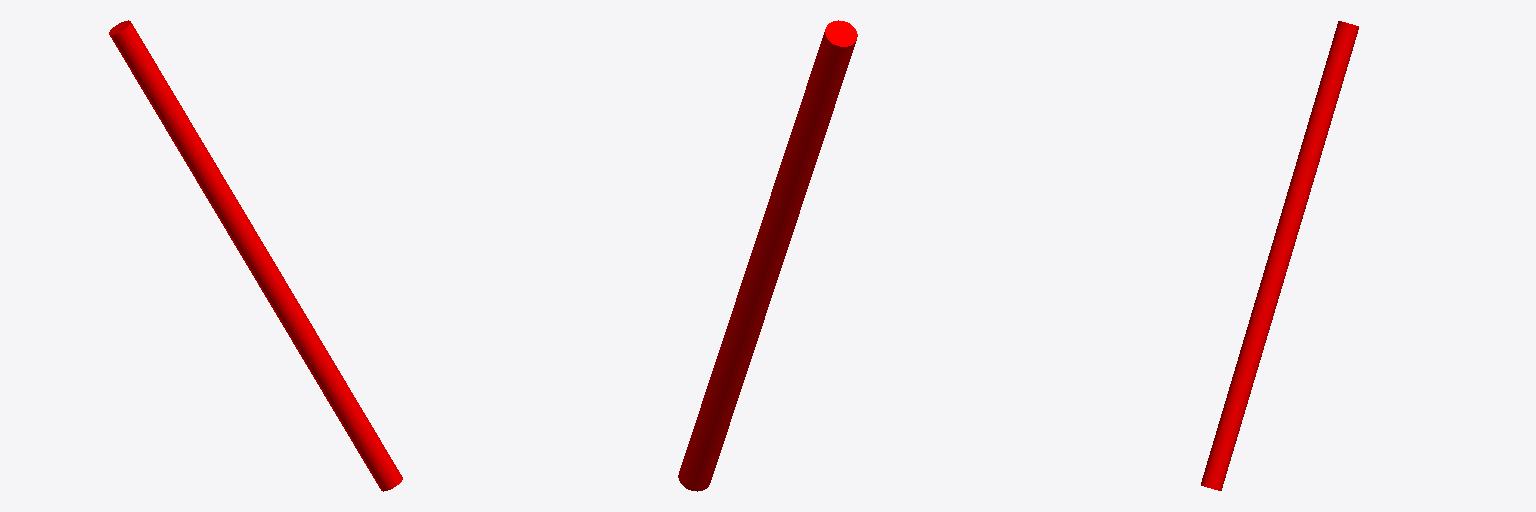
robot.urdf — tree_2.urdf:
<?xml version='1.0' encoding='utf-8'?>
<robot name="tree_2.urdf">
  <link name="branch_0">
    <inertial>
      <origin xyz="0.0 0.0 0.0" rpy="0.0 -0.0 0.0" />
      <mass value="1.0" />
      <inertia ixx="1.0" ixy="0.0" ixz="0.0" iyy="1.0" iyz="0.0" izz="1.0" />
    </inertial>
    <visual name="branch_0_visual">
      <geometry>
        <cylinder radius="0.07190169378059089" length="3.188981571307792" />
      </geometry>
      <material name="semantic_material" />
      <origin xyz="-0.6295209302453653 0.45451986677309586 1.3926650547158697" rpy="-9.00125772532473e-17 0.5086082537336425 2.5162476639508924" />
    </visual>
    <collision name="branch_0_collision">
      <geometry>
        <cylinder radius="0.07190169378059089" length="3.188981571307792" />
      </geometry>
      <origin xyz="-0.6295209302453653 0.45451986677309586 1.3926650547158697" rpy="-9.00125772532473e-17 0.5086082537336425 2.5162476639508924" />
    </collision>
  </link>
  <material name="semantic_material">
    <color rgba="1. 0. 0. 1." />
  </material>
</robot>

--- Render facts (derived) ---
3 views of the same robot in one strip: view 1: azimuth 30°, elevation 25°; view 2: azimuth 150°, elevation 25°; view 3: azimuth 270°, elevation 25° (orthographic).
Model tree_2.urdf with 1 links and 0 joints (none), rooted at branch_0, posed every joint at zero.
Links seen in each view (by area): view 1: branch_0; view 2: branch_0; view 3: branch_0.
Link boxes in pixels (left/top/right/bottom): branch_0: left=109, top=20, right=402, bottom=491; branch_0: left=678, top=20, right=857, bottom=491; branch_0: left=1201, top=21, right=1358, bottom=490.
Size in the robot's own frame: 1.39 by 1.05 by 2.86 metres.
Geometry: primitives only (box / cylinder / sphere), no mesh files.